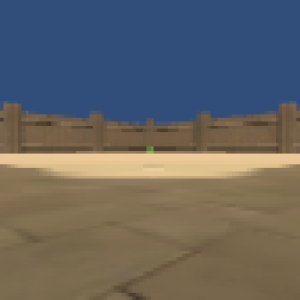goodGoal: (144, 144, 156, 155)
